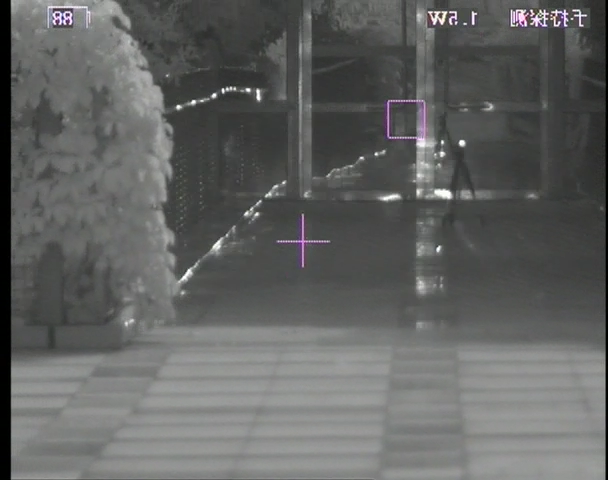my: (457, 139, 466, 148)
